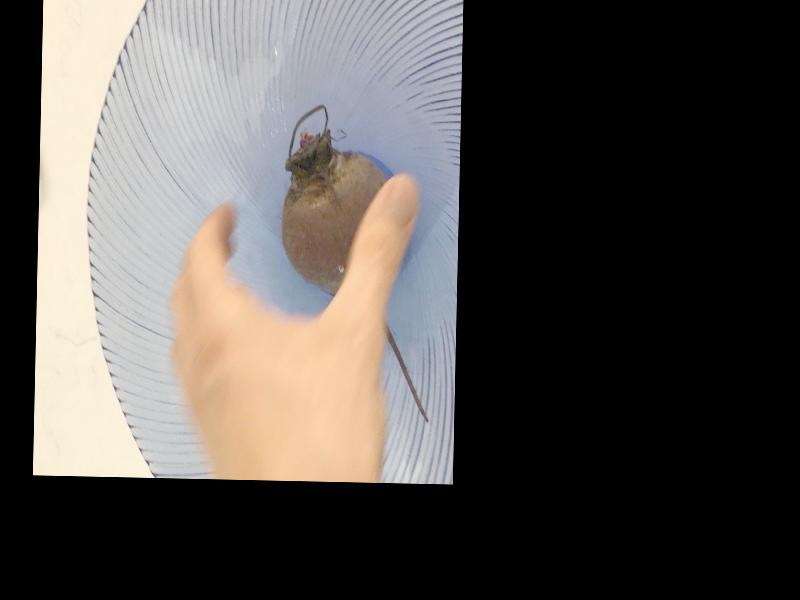Beet: (276, 104, 435, 421)
